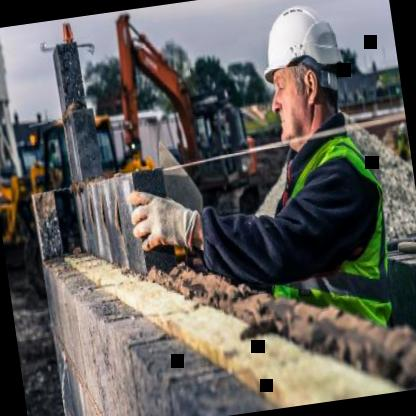helmet: (245, 0, 352, 149)
